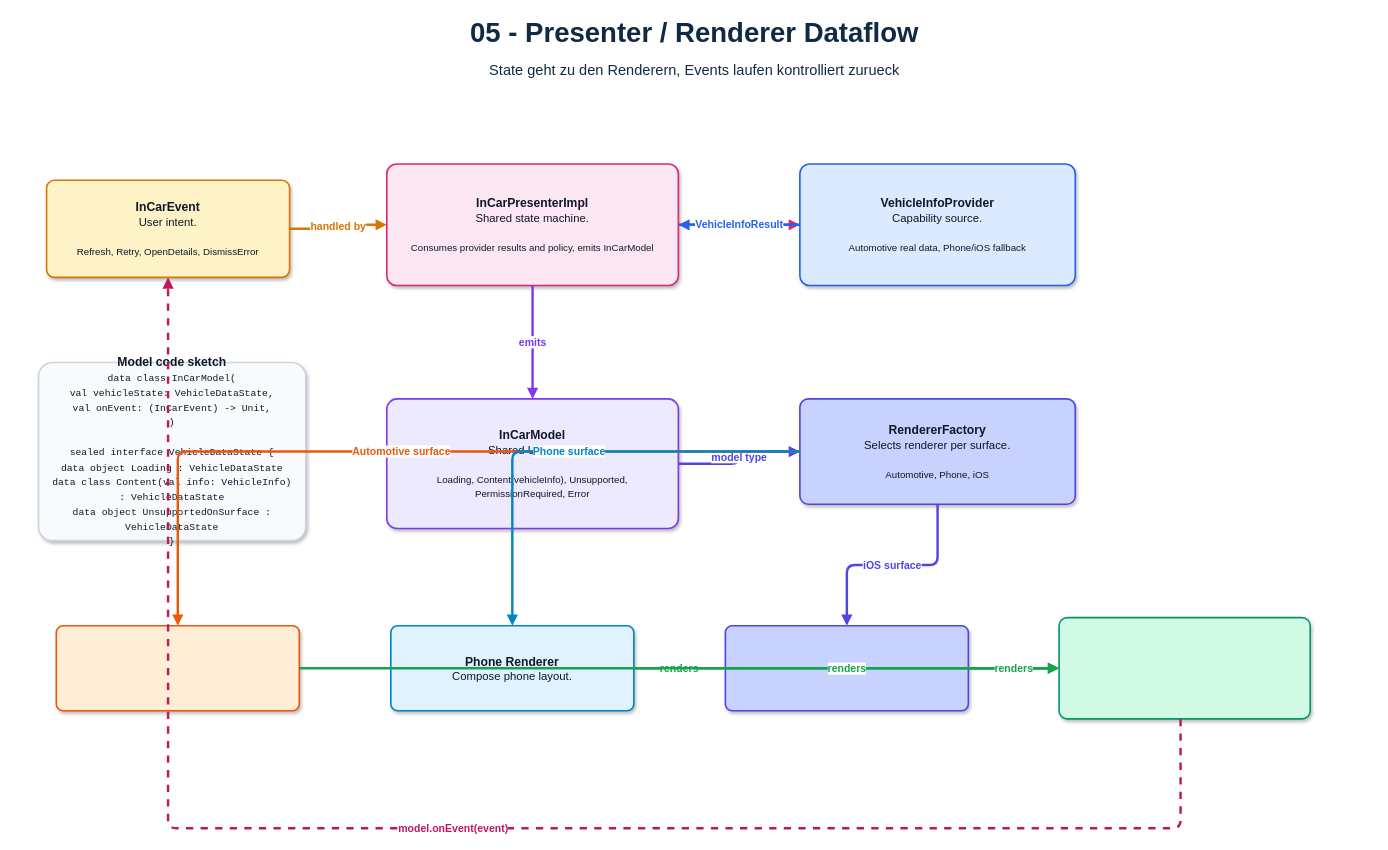
Some shapes in this 1388 by 850 pixel diagram are drawn without their labels. The centre of each missing label's shape, as x and y in pixels:
"Automotive Renderer MB widgets, head-unit layout." belongs at (178,669).
"iOS Renderer Compose Multiplatform iOS layout." belongs at (847,669).
"Visible UI User sees a surface-specific rendering of the same InCarModel." belongs at (1185,669).
